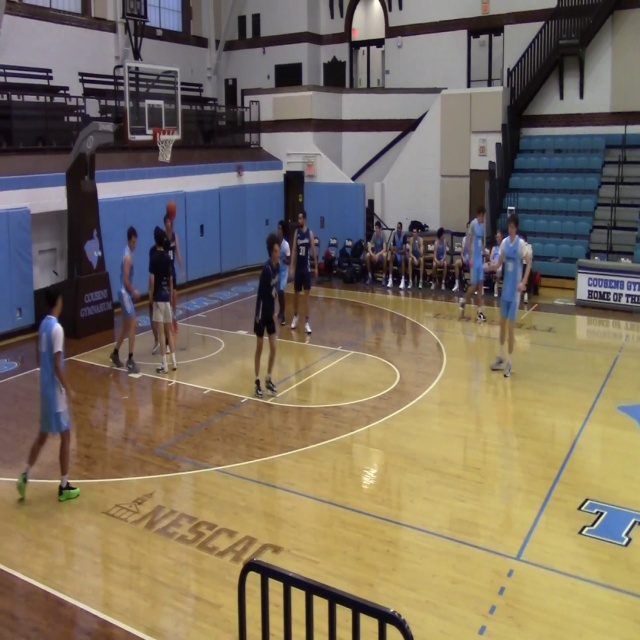Basketball: (166, 201, 176, 220), (330, 237, 337, 245)
